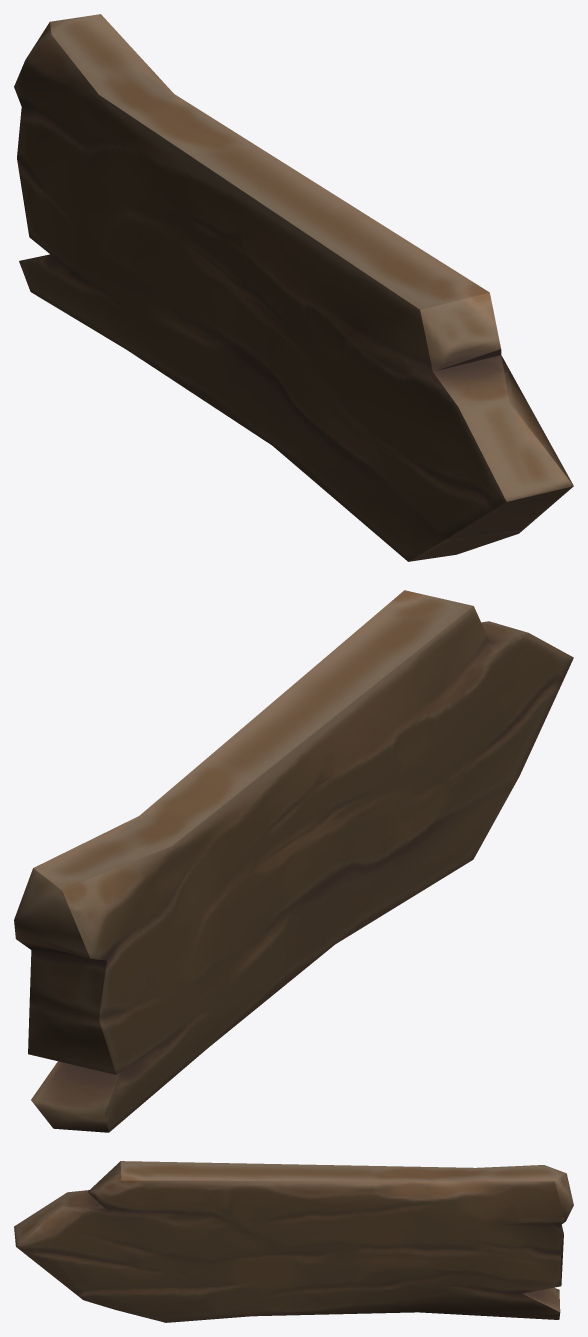
Rendered from SM_FW01_Roadsign_01.fbx.
3 renders of one model, top to bottom at view 1: azimuth 30°, elevation 25°; view 2: azimuth 150°, elevation 25°; view 3: azimuth 270°, elevation 25°, orthographic. The views are drawn at different scales.
Parts seen in each view (by area): view 1: SM_FW01_Roadsign_01_LOD0; view 2: SM_FW01_Roadsign_01_LOD0; view 3: SM_FW01_Roadsign_01_LOD0.
Part boxes in pixels (left/top/right/bottom): SM_FW01_Roadsign_01_LOD0: left=14, top=14, right=573, bottom=561; SM_FW01_Roadsign_01_LOD0: left=14, top=590, right=573, bottom=1132; SM_FW01_Roadsign_01_LOD0: left=14, top=1161, right=573, bottom=1322.
Size of what is drawn, in the model's own units: 0.0893 by 0.2396 by 0.8244.
